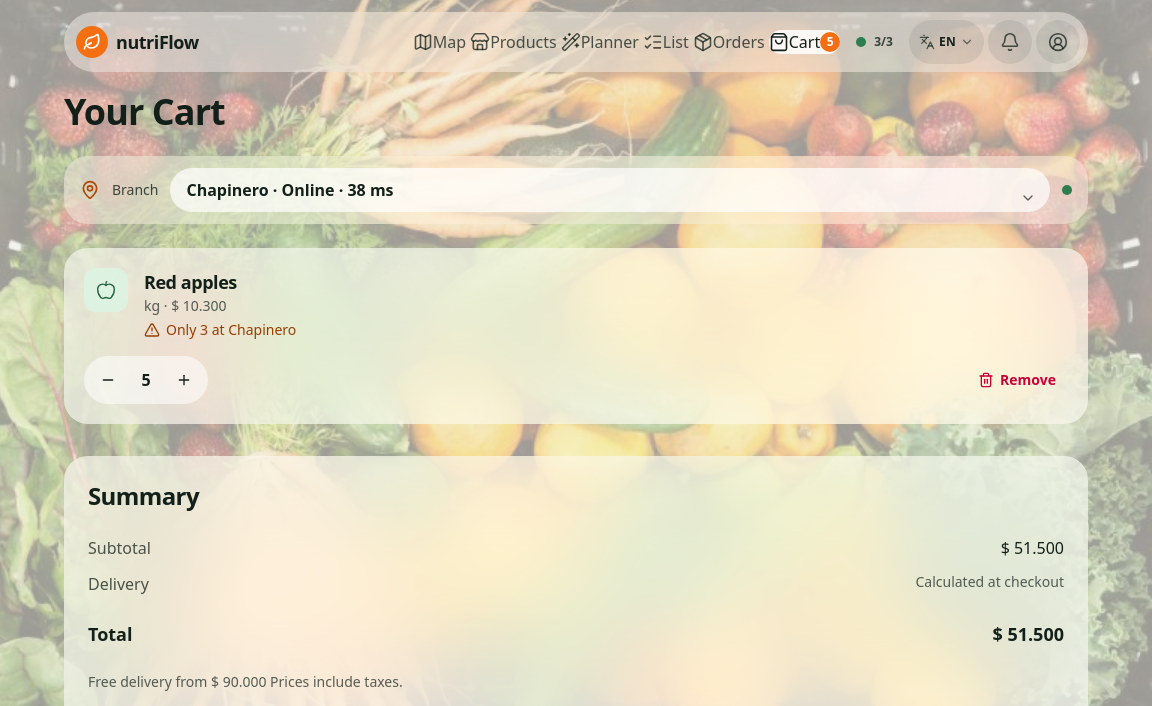
Scenario: Shopping list and cart › updates the cart and warns when the branch has less stock
Expected: the element with test id "stock-warning" reads "Only 3 at Chapinero", [166,320,296,339]
What coordinates should you click on to do the following:
click the button named "Decrease quantity of Red apples"
I would click on:
 (108, 380)
Its box is [86,358,130,402].
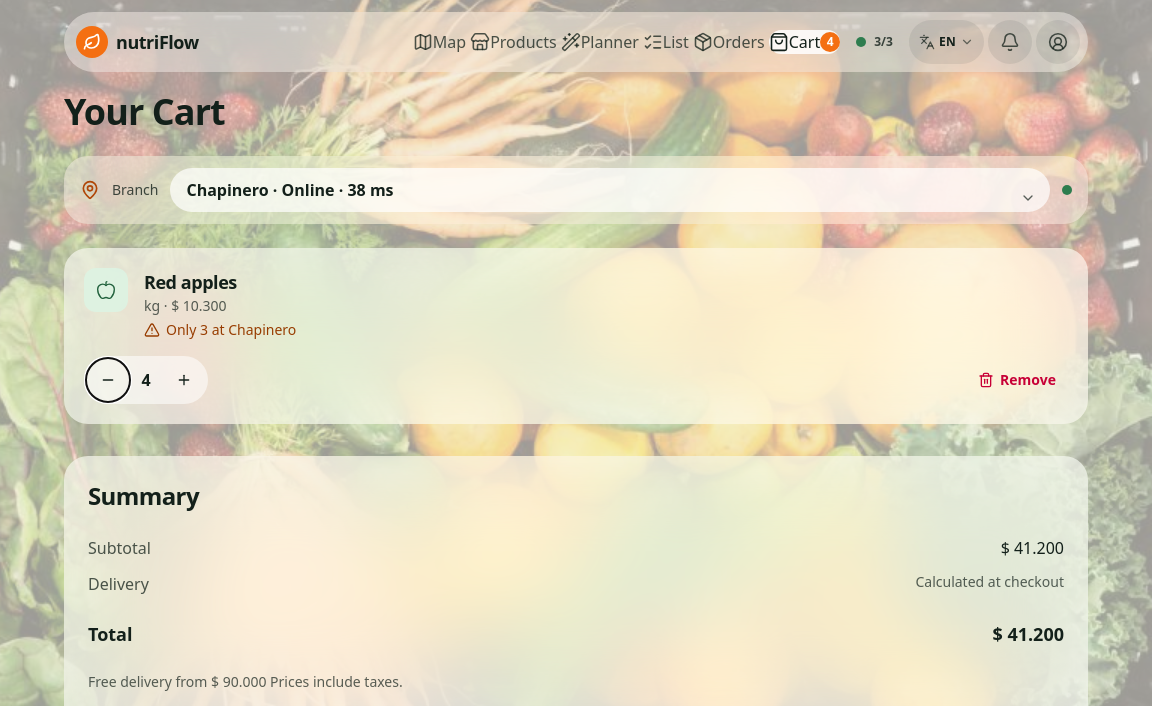
What coordinates should you click on to do the following:
click the button named "Decrease quantity of Red apples"
I would click on:
 (108, 380)
Its box is [86,358,130,402].
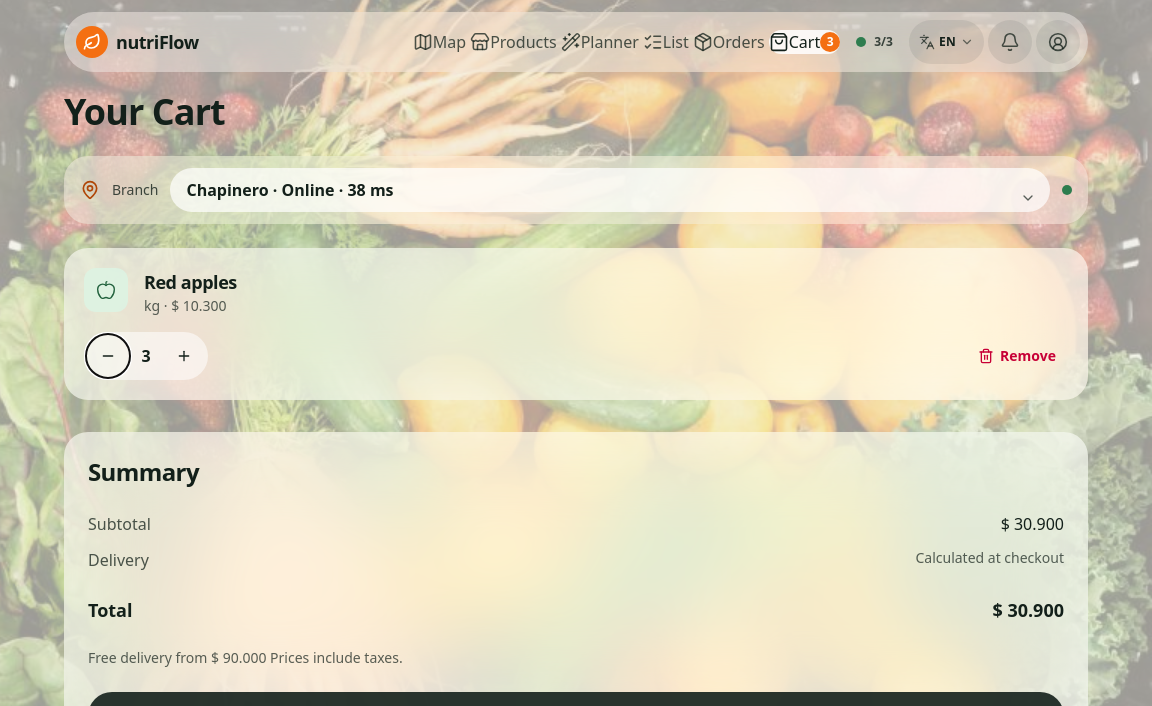
Result: the element with test id "stock-warning" is gone
What coordinates should you click on to do the following:
click the button with aria-label "Remove Red apples from cart"
I would click on:
 (1017, 356)
Its box is [966,334,1068,378].
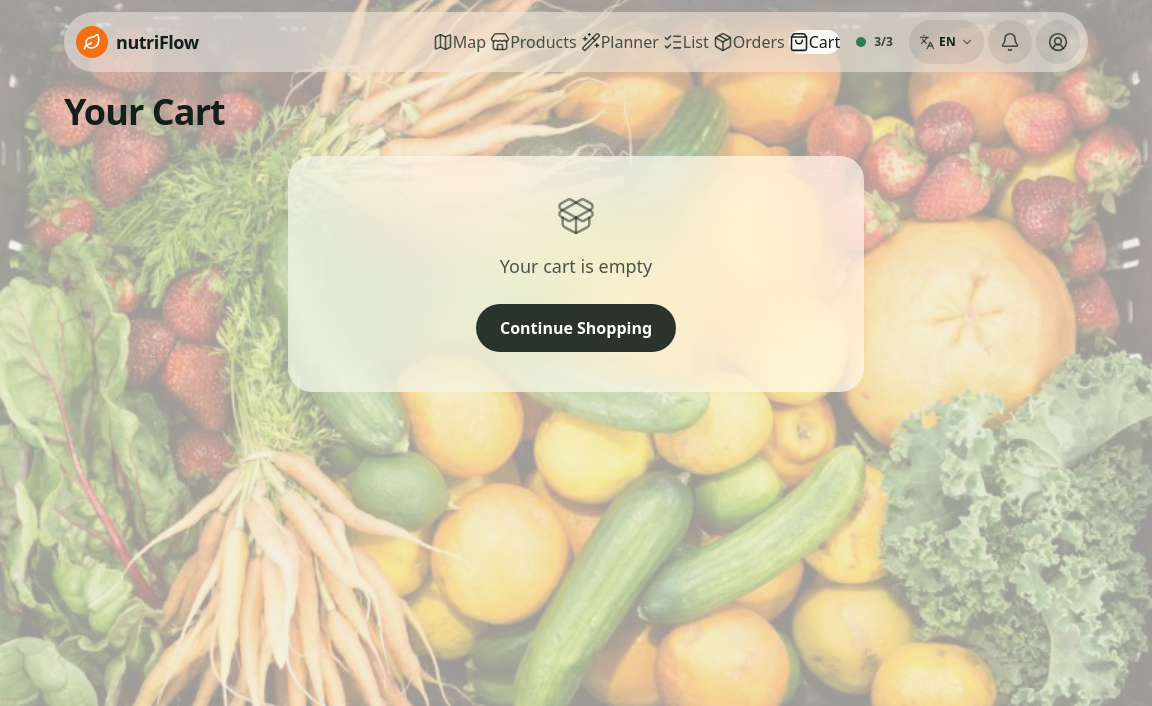
Result: the text "Your cart is empty" is shown at [500,254,652,278]
